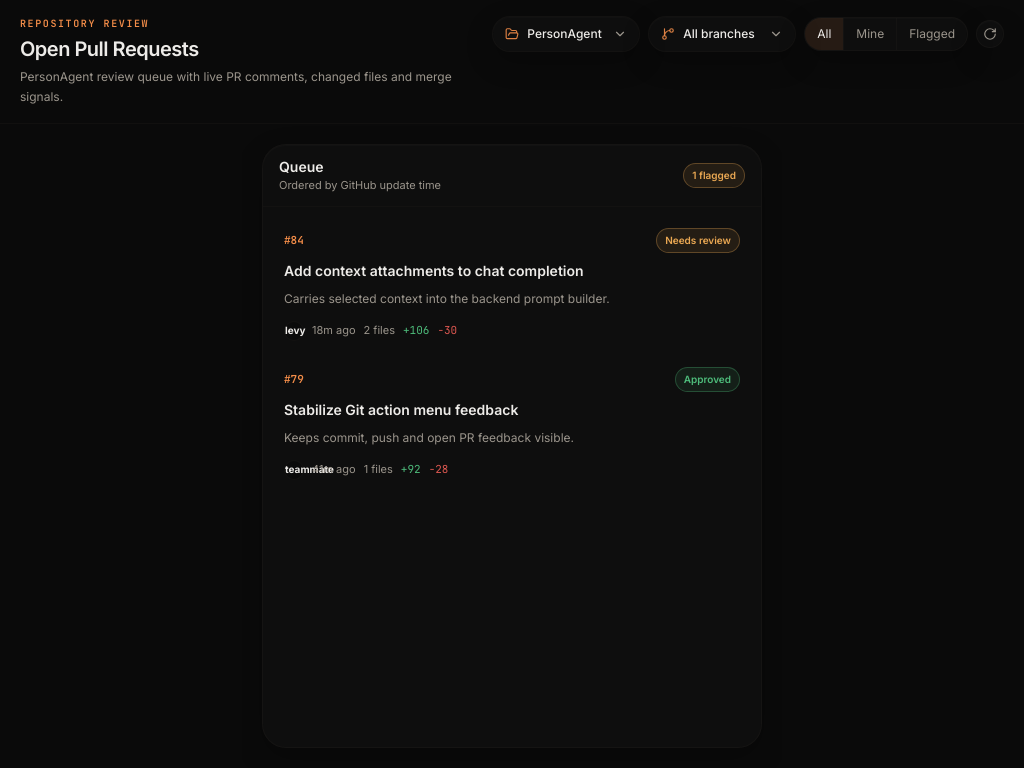
OpenPrWorkspace › starts review mode and replaces the visible diff when a file is clicked
The image size is (1024, 768).
Step 1. Click the button "Add context attachments to chat completion" → (698,240), box [271,214,753,354]
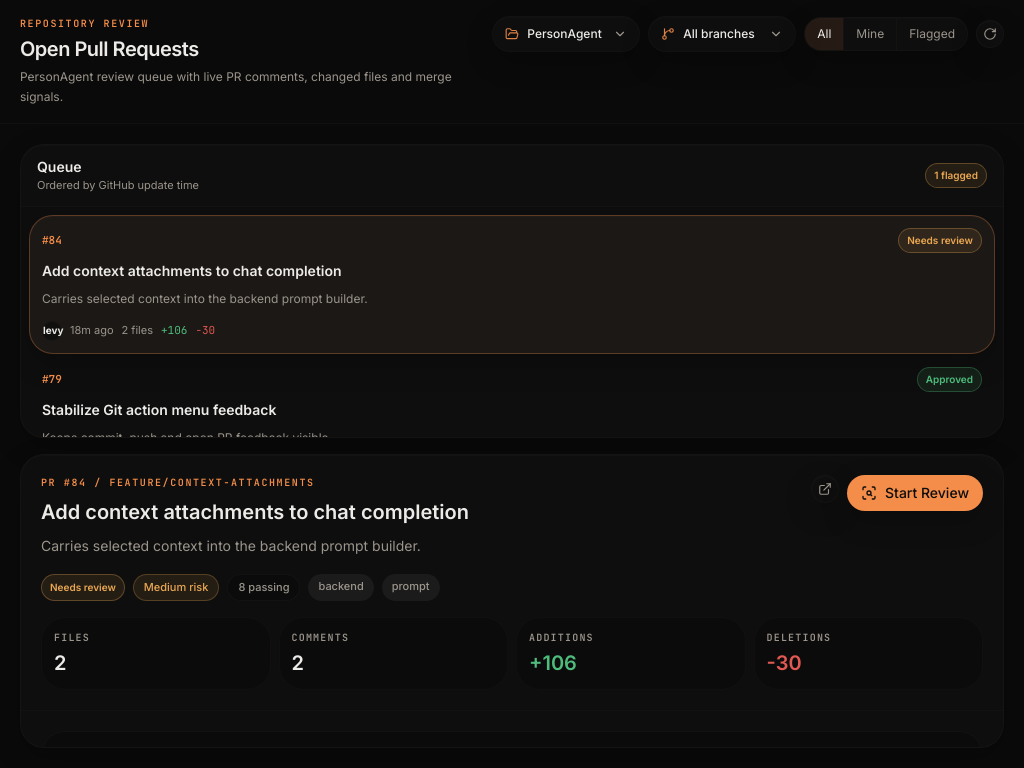
Step 2. Click the button "Start Review" → (915,493), box [847,475,983,511]
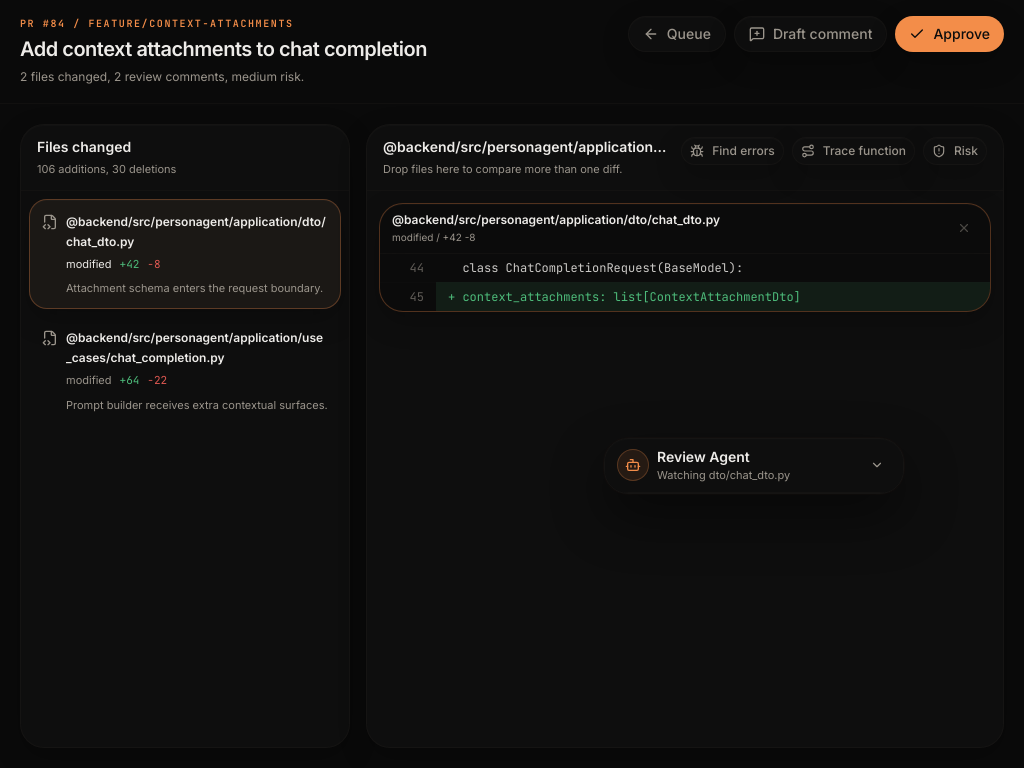
Result: the text "Files changed" is shown at [37,138,131,155]
Result: the element with test id "open-diff-card-chat-dto" is shown at [379,202,991,312]
Step 3. Click the button with aria-label "Open diff for @backend/src/personagent/application/use_cases" → (195,338), box [29,315,341,426]
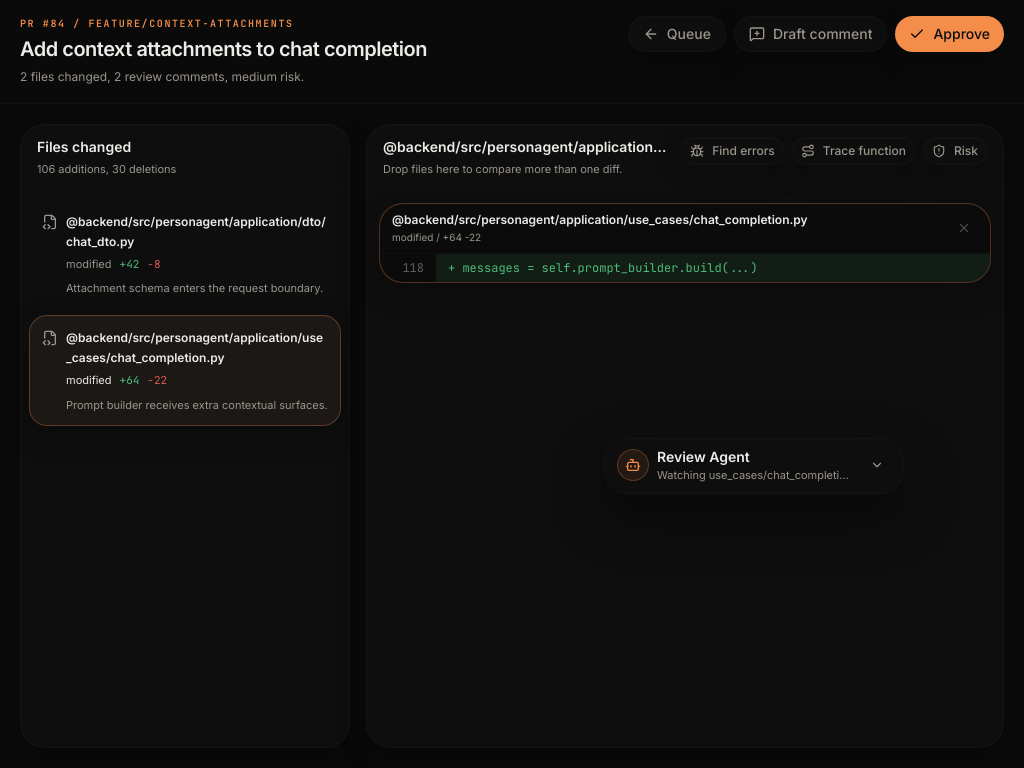
Result: the element with test id "open-diff-card-chat-completion" is shown at [379,202,991,282]
Result: the element with test id "open-diff-card-chat-dto" is gone
